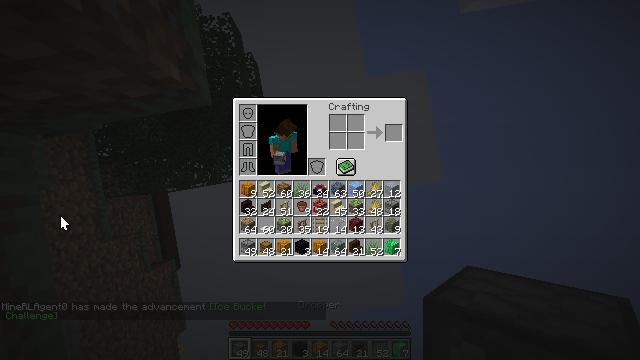cursor: (60, 215, 70, 231)
